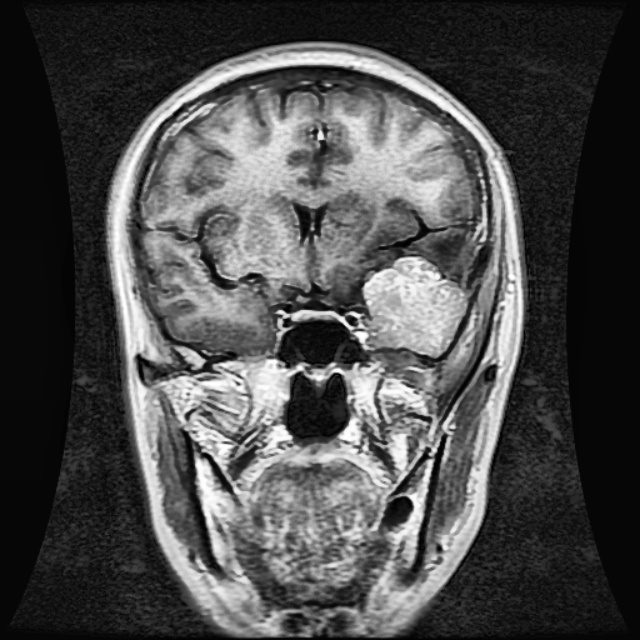Glioma: (362, 254, 468, 359)
